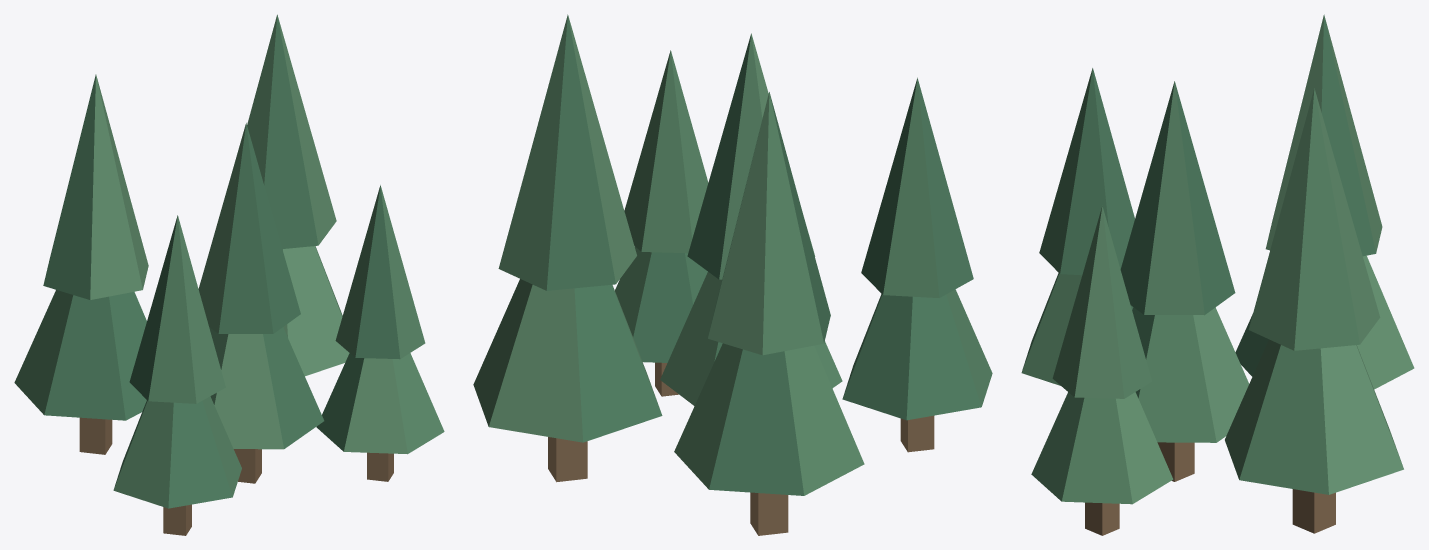
Rendered from forest_a.glb.
The picture shows the model from 3 angles, left to right: view 1: azimuth 30°, elevation 25°; view 2: azimuth 150°, elevation 25°; view 3: azimuth 270°, elevation 25°; orthographic projection. The views are drawn at different scales.
Parts seen in each view (by area): view 1: forest_a; view 2: forest_a; view 3: forest_a.
Part boxes in pixels (box(x1,y1,x2,y2)): forest_a: box(14, 14, 444, 535); forest_a: box(473, 14, 992, 535); forest_a: box(1021, 14, 1414, 535).
Size of the model in its own units: 0.8863 by 1 by 0.8158.
